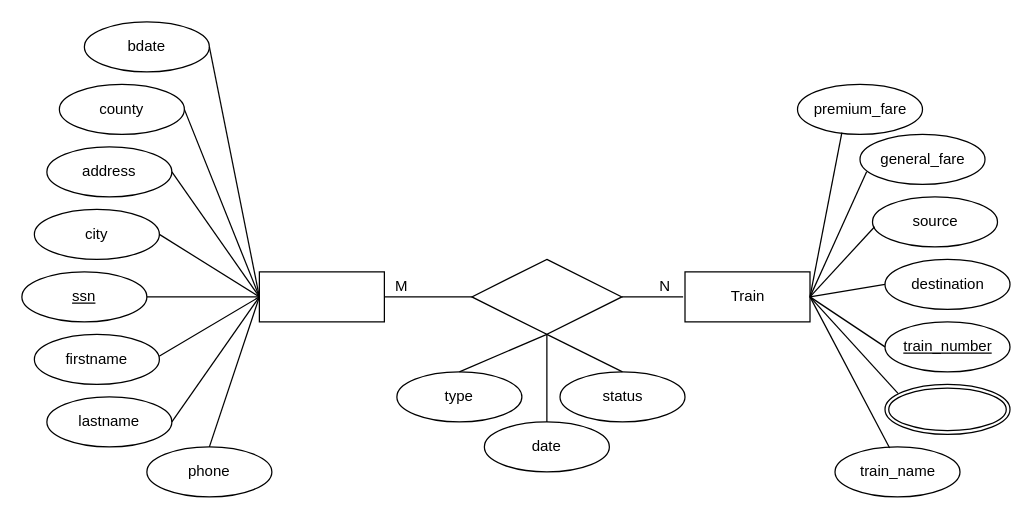
Image size: 1033x519. Some labels were removed from this diagram. The box of each missing label's shape, as (x1, y1, x2, y2) in pixels:
availability: (884, 383, 1010, 434)
books: (471, 258, 622, 334)
Passenger: (258, 271, 384, 322)
